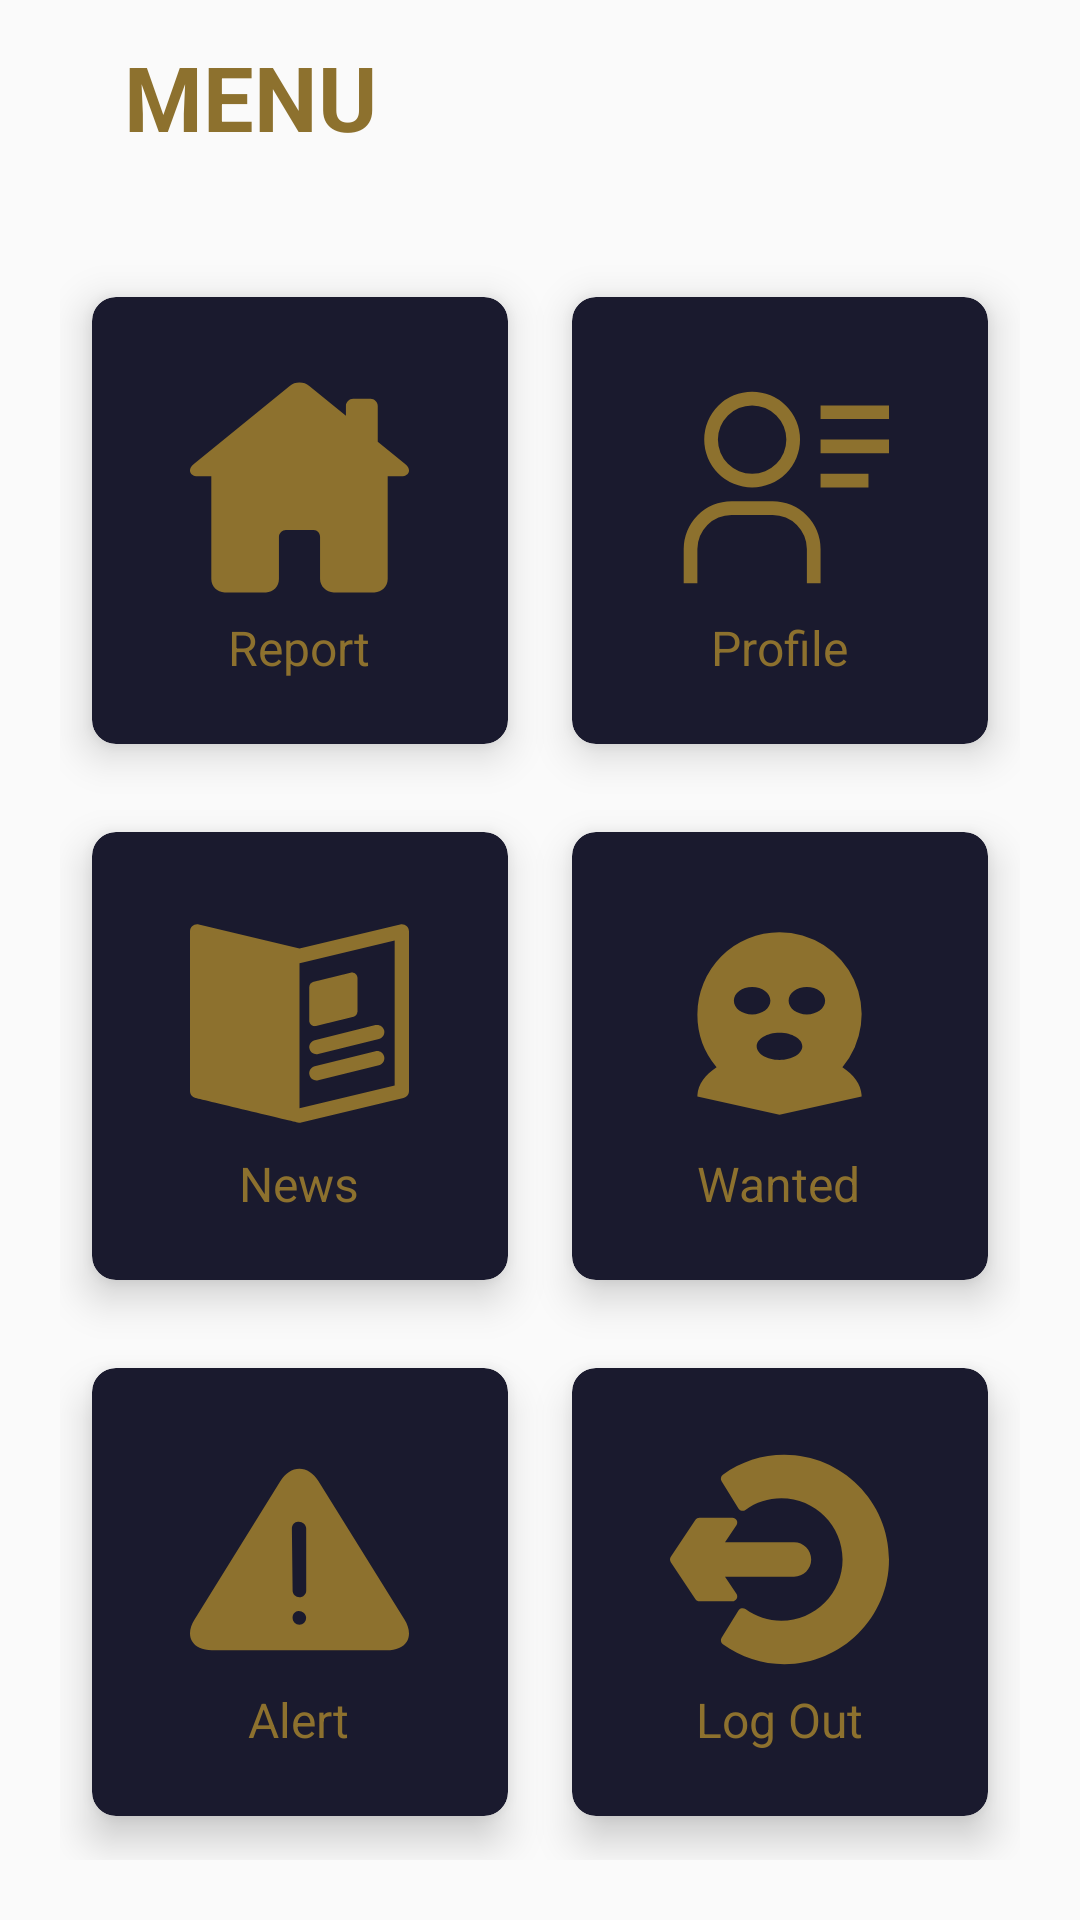

Icon bounding boxes for this 1080px x 1920px phone screenshot, format (x1, y1, x2, y2):
criminal: (697, 932, 862, 1115)
home: (190, 382, 409, 593)
